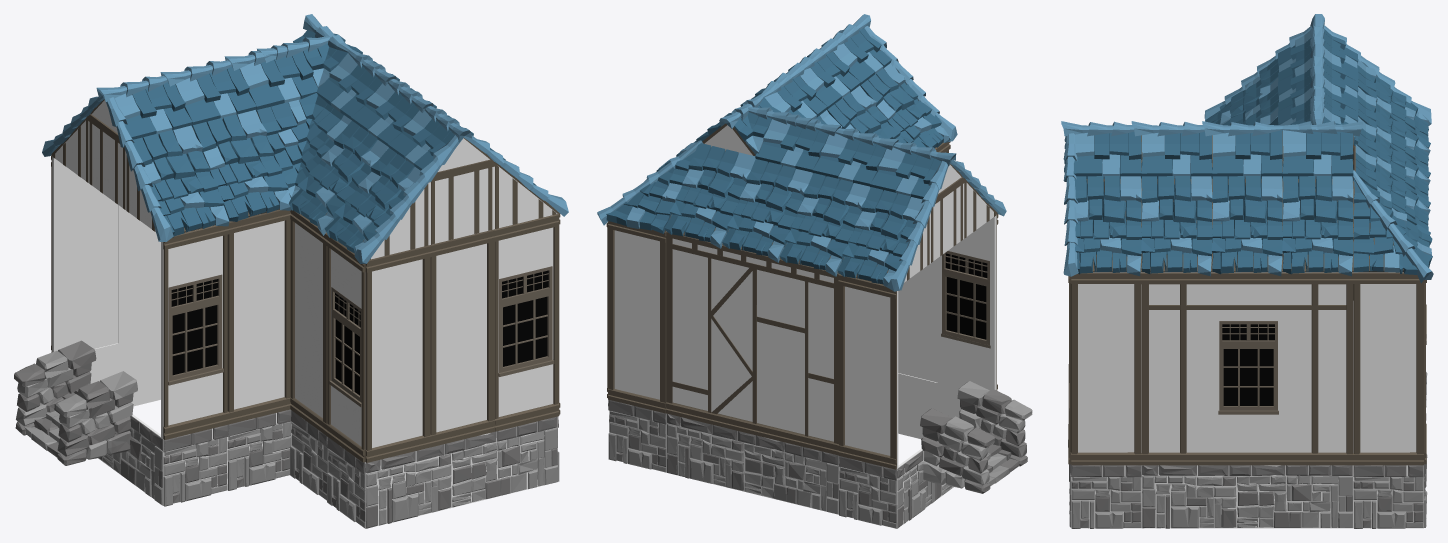
Rendered from House_11_parts.fbx.
3 views of the same model, side by side, from view 1: azimuth 30°, elevation 25°; view 2: azimuth 150°, elevation 25°; view 3: azimuth 270°, elevation 25° (orthographic). The views are drawn at different scales.
Parts seen in each view (by area): view 1: WINDOW_04_5, WALL_03_8, WALL_03_7, WALL_03_10, WINDOW_04_3, FOUNDATION_02_16, WALL_03_3, STSAIRS_07_2, WINDOW_04_4, WALL_03_9, ROOF_base_4, ROOF_base_3 (+33 smaller); view 2: WALL_05_2, WALL_03_3, WALL_03_4, FOUNDATION_02_18, WINDOW_04_5, STSAIRS_07_2, ROOF_base_14, ROOF_base_13, ROOF_base_12, ROOF_base_11, WALL_03_10, ROOF_corner_out_2 (+26 smaller); view 3: WINDOW_03_2, WALL_03_6, WALL_03_5, FOUNDATION_02_17, ROOF_base_8, ROOF_base_10, ROOF_base_9, ROOF_base_7, ROOF_corner_out_2, FOUNDATION_03_13, FOUNDATION_03_12, ROOF_base_small_13 (+23 smaller).
Part boxes in pixels (left/top/right/bottom): WINDOW_04_5: left=161, top=225, right=228, bottom=439; WALL_03_8: left=365, top=245, right=430, bottom=462; WALL_03_7: left=430, top=229, right=495, bottom=447; WALL_03_10: left=227, top=209, right=290, bottom=424; WINDOW_04_3: left=494, top=214, right=559, bottom=431; FOUNDATION_02_16: left=365, top=416, right=557, bottom=528; WALL_03_3: left=51, top=155, right=117, bottom=352; STSAIRS_07_2: left=14, top=340, right=137, bottom=465; WINDOW_04_4: left=325, top=234, right=365, bottom=462; WALL_03_9: left=290, top=210, right=327, bottom=434; ROOF_base_4: left=192, top=110, right=291, bottom=221; ROOF_base_3: left=132, top=125, right=229, bottom=237; WALL_05_2: left=665, top=232, right=838, bottom=455; WALL_03_3: left=838, top=274, right=898, bottom=469; WALL_03_4: left=607, top=221, right=666, bottom=413; FOUNDATION_02_18: left=666, top=413, right=839, bottom=514; WINDOW_04_5: left=937, top=214, right=998, bottom=390; STSAIRS_07_2: left=920, top=381, right=1032, bottom=493; ROOF_base_14: left=664, top=143, right=755, bottom=248; ROOF_base_13: left=722, top=159, right=812, bottom=262; ROOF_base_12: left=779, top=173, right=870, bottom=276; ROOF_base_11: left=837, top=187, right=925, bottom=289; WALL_03_10: left=898, top=259, right=937, bottom=382; ROOF_corner_out_2: left=597, top=140, right=703, bottom=233; WINDOW_03_2: left=1141, top=272, right=1353, bottom=465; WALL_03_6: left=1071, top=272, right=1141, bottom=465; WALL_03_5: left=1353, top=272, right=1423, bottom=465; FOUNDATION_02_17: left=1141, top=465, right=1353, bottom=528; ROOF_base_8: left=1141, top=175, right=1212, bottom=276; ROOF_base_10: left=1282, top=175, right=1353, bottom=276; ROOF_base_9: left=1211, top=176, right=1282, bottom=276; ROOF_base_7: left=1071, top=174, right=1141, bottom=276; ROOF_corner_out_2: left=1352, top=170, right=1433, bottom=283; FOUNDATION_03_13: left=1071, top=465, right=1141, bottom=528; FOUNDATION_03_12: left=1353, top=465, right=1423, bottom=528; ROOF_base_small_13: left=1282, top=130, right=1353, bottom=178.
Size of the model in its own units: 629 by 565 by 528.
